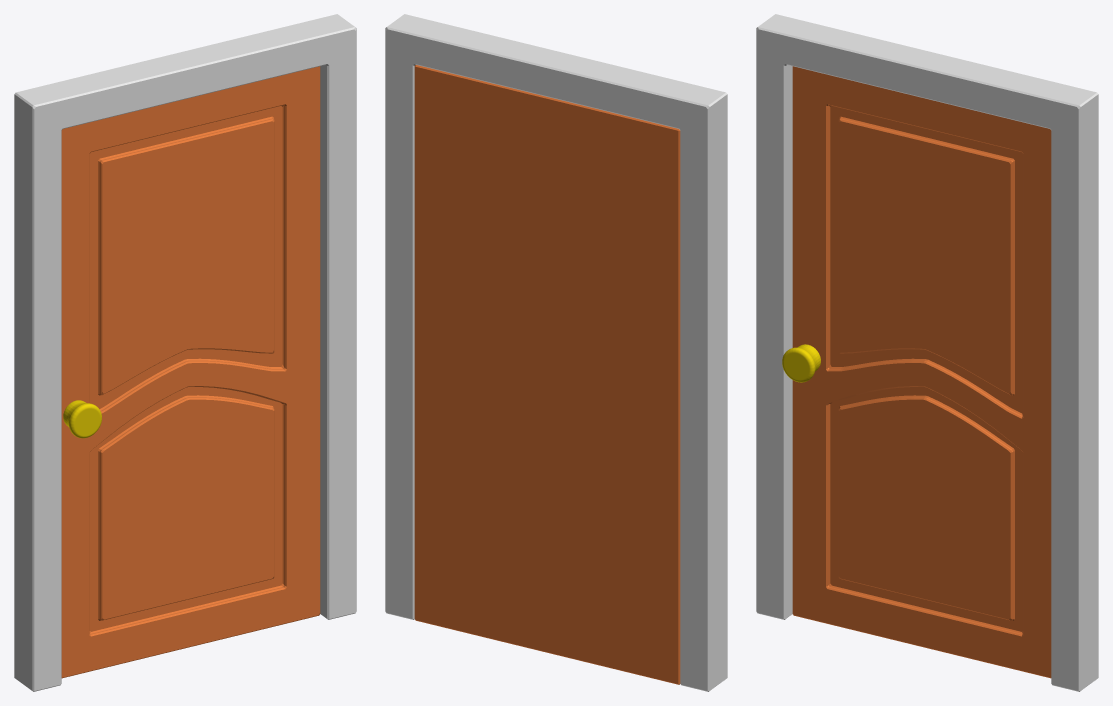
File: door.fbx
The picture shows the model from 3 angles, left to right: view 1: azimuth 30°, elevation 25°; view 2: azimuth 150°, elevation 25°; view 3: azimuth 330°, elevation 25°; orthographic projection.
Parts seen in each view (by area): view 1: Plane, Plane.001, Plane.002; view 2: Plane, Plane.001; view 3: Plane, Plane.001, Plane.002.
Boxes of the visible parts, x1,y1,x2,y2 form: Plane: (61,66,320,678); Plane.001: (14,14,356,691); Plane.002: (63,400,101,438); Plane: (414,65,680,684); Plane.001: (385,14,727,691); Plane: (792,66,1051,678); Plane.001: (756,14,1098,691); Plane.002: (782,344,820,382).
Size of the model in its own units: 244 by 422 by 33.95.
